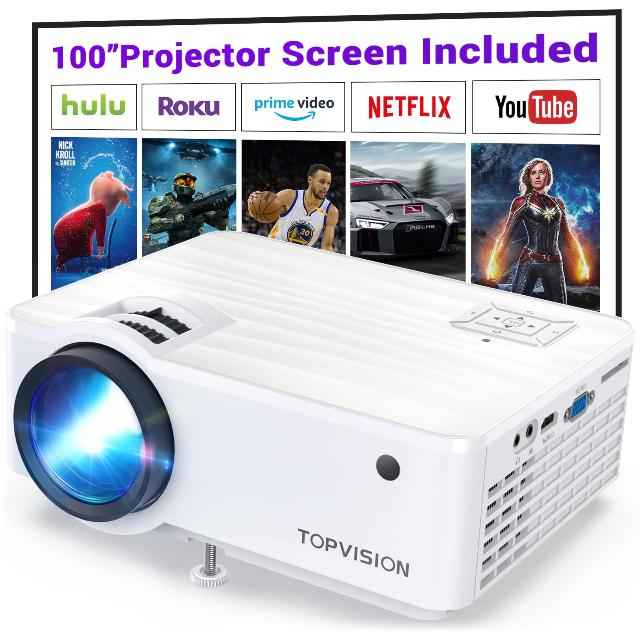Projector: (8, 230, 640, 620)
